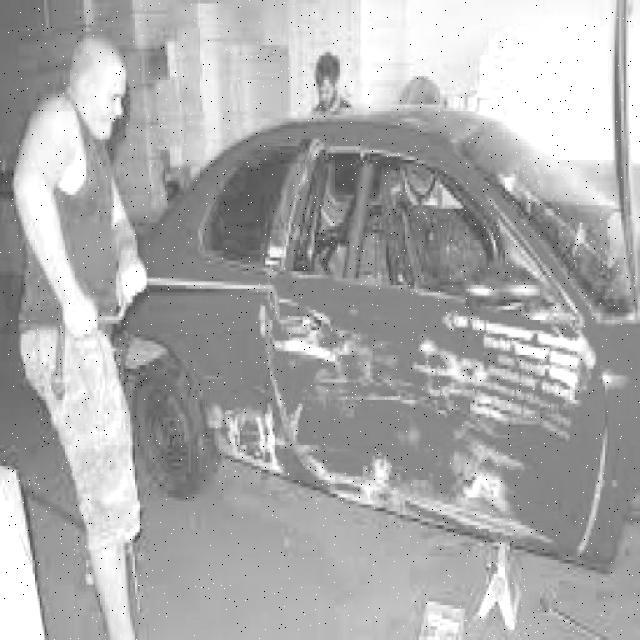car damage: (206, 271, 609, 542)
